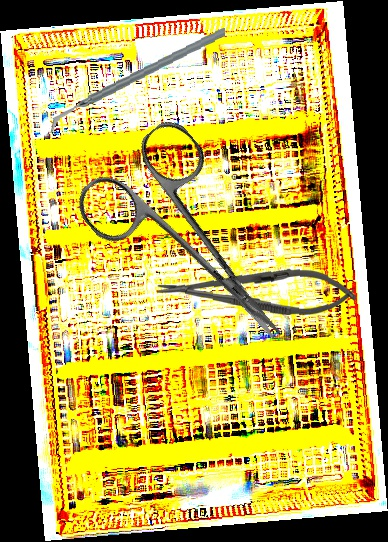Chopper: (43, 26, 232, 134)
Iris Scissors: (68, 113, 325, 383)
Needle Holder: (156, 263, 357, 318)
